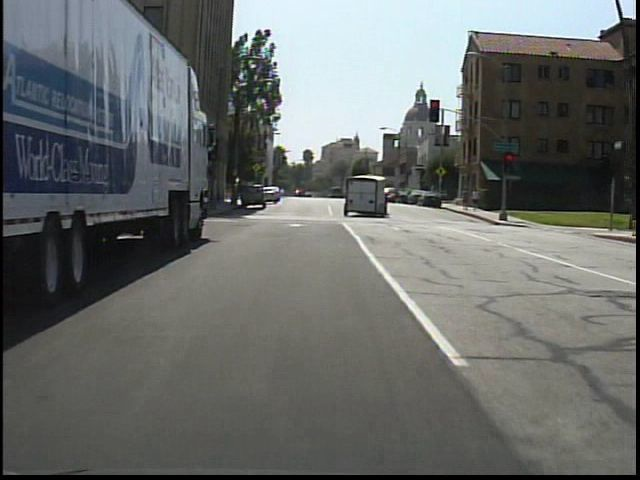person: (470, 187, 483, 212), (460, 185, 472, 211)
